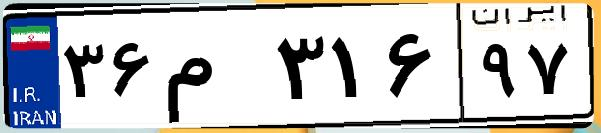1: (330, 28, 385, 110)
3: (270, 28, 330, 110), (57, 26, 110, 100)
6: (385, 28, 445, 110), (110, 28, 158, 98)
7: (525, 38, 570, 115)
9: (475, 38, 525, 113)
م: (158, 20, 270, 120)
